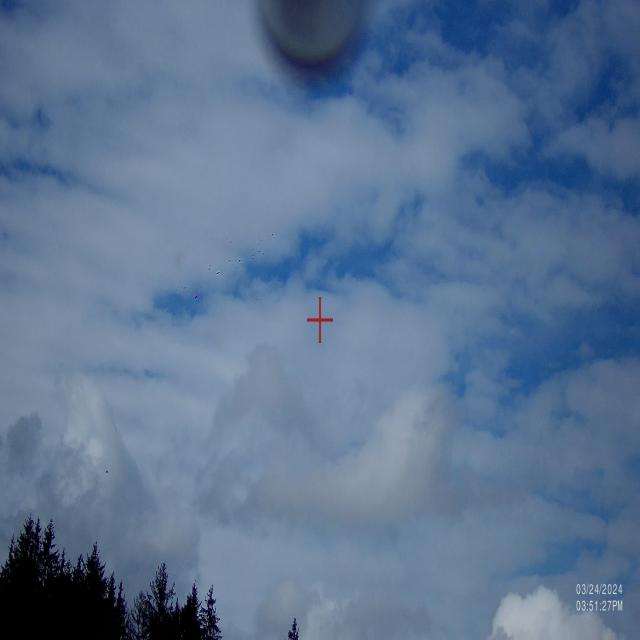broken: (160, 207, 283, 332)
